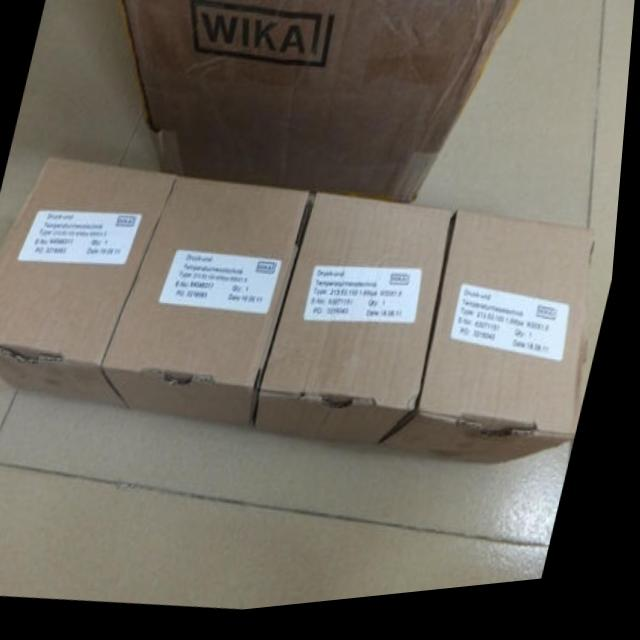box: (121, 0, 527, 212), (387, 221, 602, 477), (107, 180, 317, 436), (262, 201, 457, 458), (0, 159, 181, 414)
